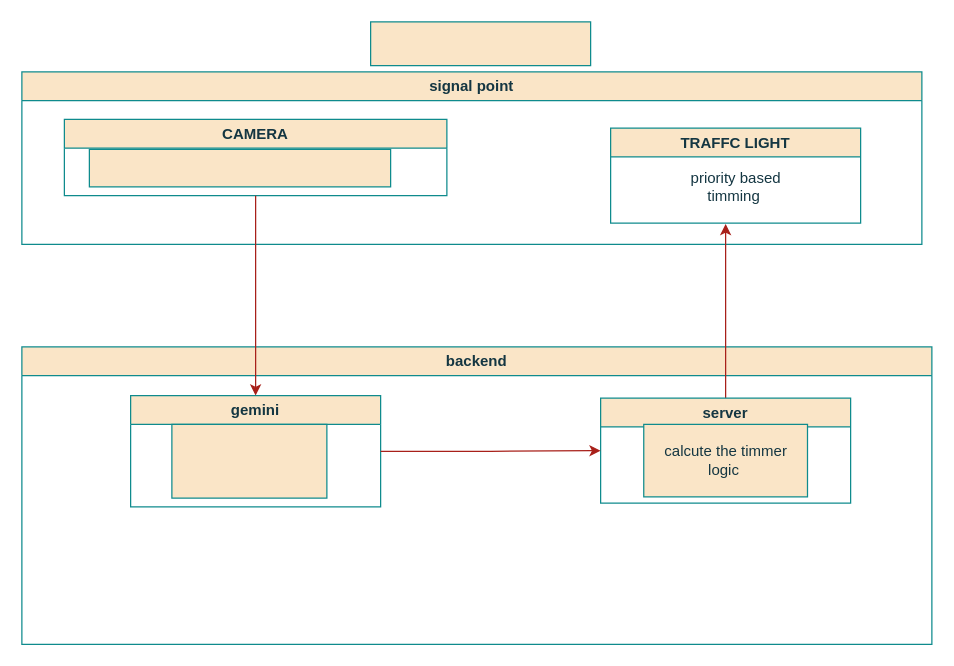
The diagram is 954 pixels wide and 666 high, and some of its shapes have lost their labels. The shapes that lost their labels are listed below. From the top down, each one's centre as x and y in pixels, then its label:
point (480, 43): SMART--FLOW
point (239, 167): it captures the image
point (249, 460): it count the number of vehicle
